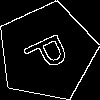P: (22, 27, 78, 77)
